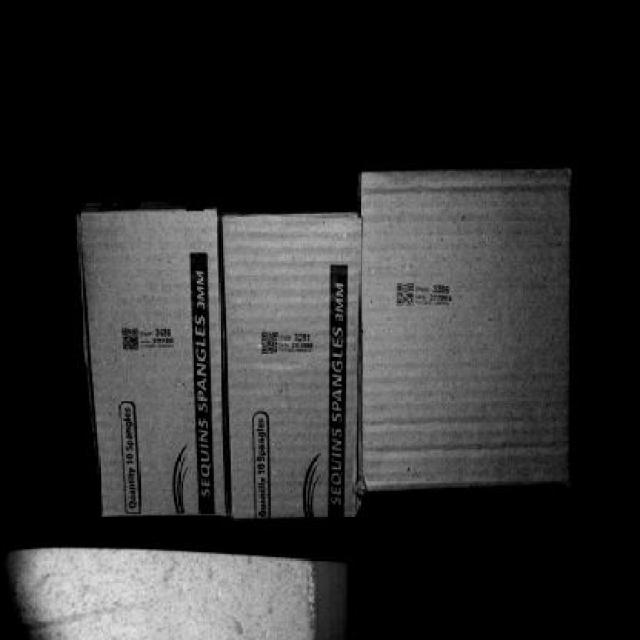cardboxes: (364, 174, 571, 491), (81, 210, 232, 512), (225, 215, 361, 517)
